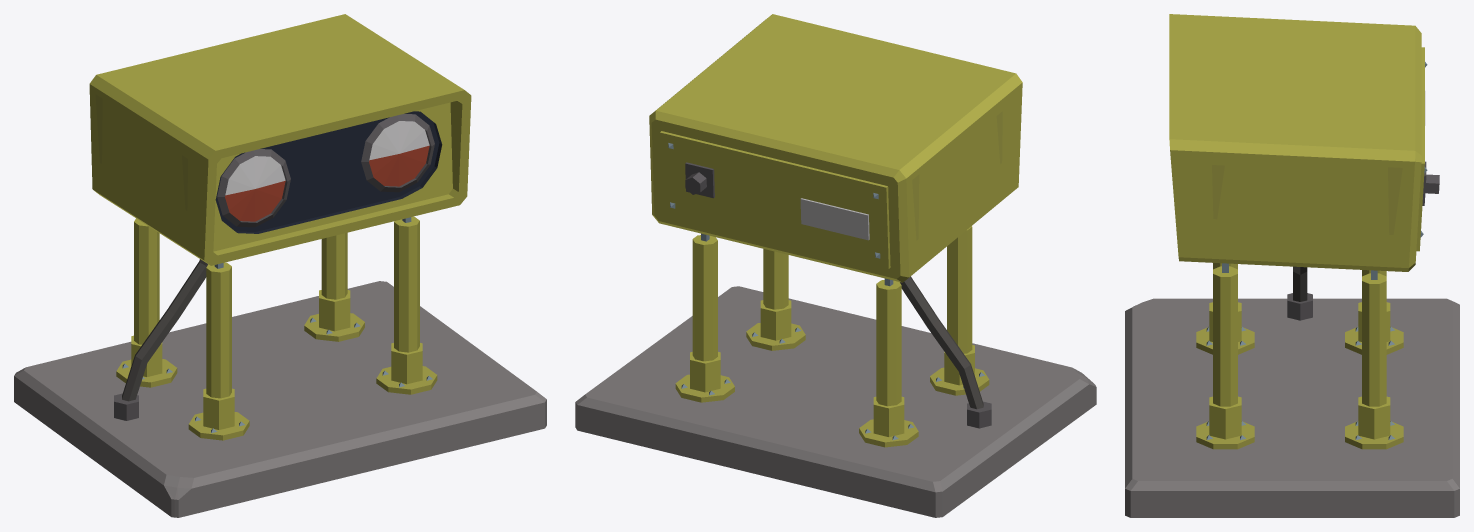
The model's file is papi-unit-adc7c4.glb.
3 renders of one model, left to right at view 1: azimuth 30°, elevation 25°; view 2: azimuth 150°, elevation 25°; view 3: azimuth 270°, elevation 25°, orthographic. The views are drawn at different scales.
Parts seen in each view (by area): view 1: papi-unit-body; view 2: papi-unit-body; view 3: papi-unit-body.
Boxes of the visible parts, <box> form: papi-unit-body: <box>14,14,546,517</box>; papi-unit-body: <box>575,14,1096,517</box>; papi-unit-body: <box>1125,14,1459,517</box>.
Size of the model in its own units: 1.2 by 1.03 by 0.9.
